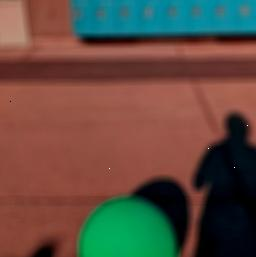algae: (76, 197, 178, 257)
